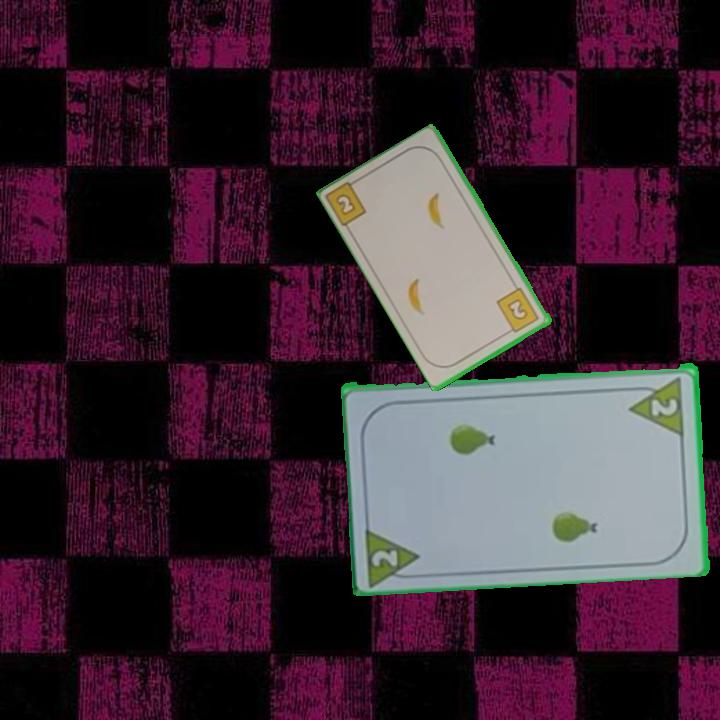2b: (493, 284, 542, 337), (324, 174, 370, 230)
2p: (648, 393, 681, 418), (368, 545, 401, 569)
